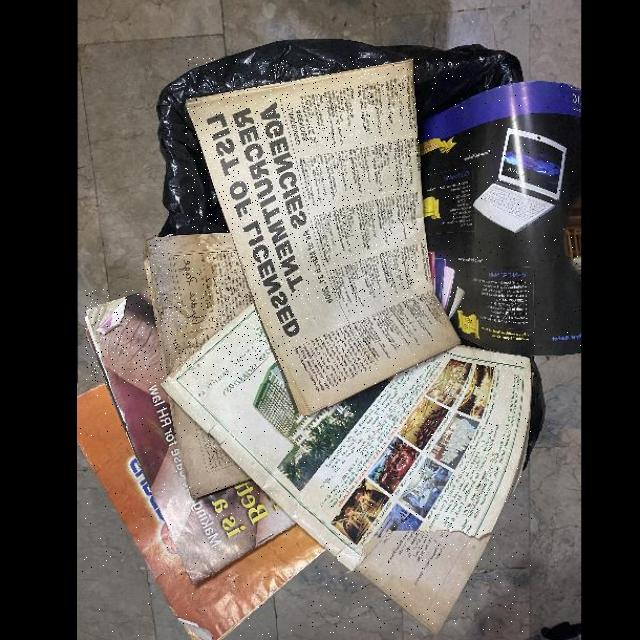paper: (161, 302, 532, 635), (186, 57, 461, 416), (77, 383, 328, 640), (85, 289, 297, 586), (419, 79, 581, 355), (143, 232, 253, 380), (164, 388, 252, 499)
